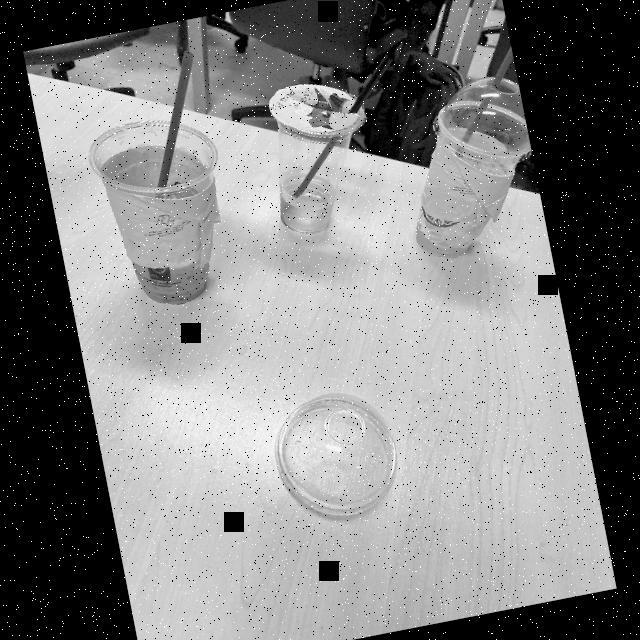plastic_cup: (84, 110, 250, 320), (385, 93, 549, 266), (242, 68, 388, 248)
plastic_cup_lid: (269, 378, 409, 532), (431, 74, 530, 160)
straw: (115, 32, 231, 216), (271, 88, 389, 205), (434, 42, 531, 162)
